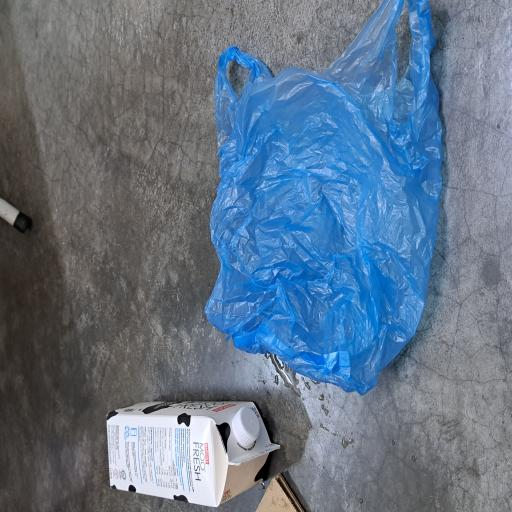cardboard: (0, 340, 30, 412)
drink carton: (4, 143, 84, 372)
plastic bag: (89, 271, 384, 512)
plastic bottle cap: (49, 311, 79, 345)
